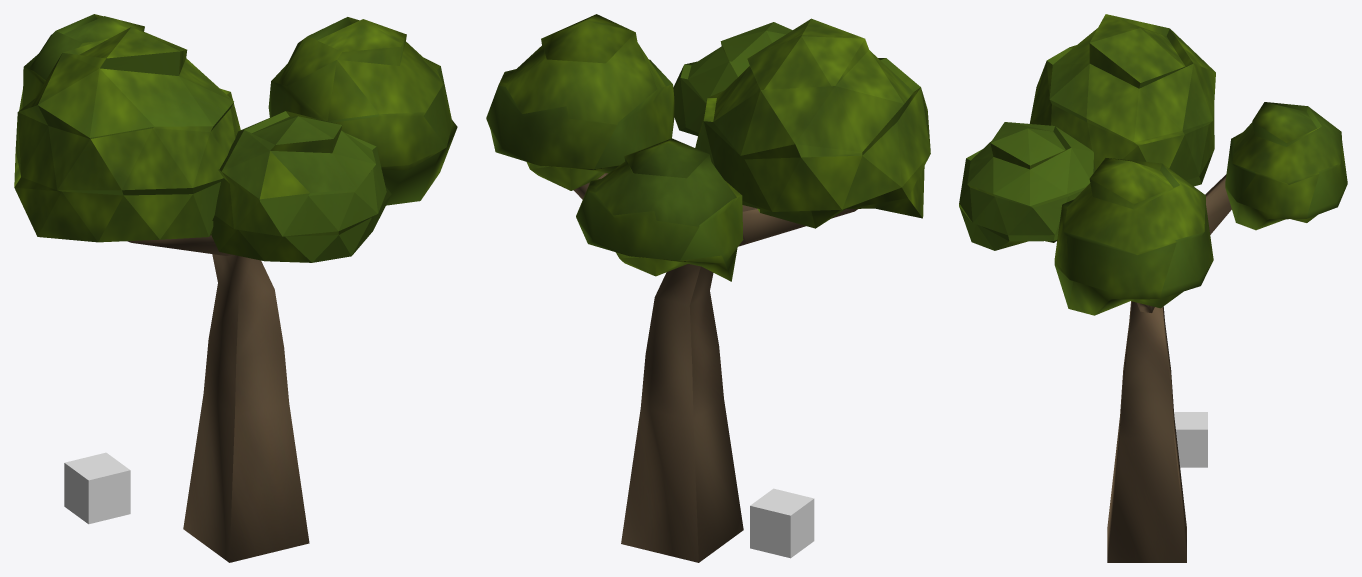
Rendered from Final Tree(where piyo pops up).fbx.
3 renders of one model, left to right at view 1: azimuth 30°, elevation 25°; view 2: azimuth 150°, elevation 25°; view 3: azimuth 270°, elevation 25°, orthographic. The views are drawn at different scales.
Parts seen in each view (by area): view 1: tree.002, Cube; view 2: tree.002, Cube; view 3: tree.002, Cube.
Part boxes in pixels (left/top/right/bottom): tree.002: left=14, top=14, right=457, bottom=562; Cube: left=64, top=452, right=130, bottom=524; tree.002: left=486, top=14, right=930, bottom=562; Cube: left=750, top=488, right=814, bottom=558; tree.002: left=959, top=14, right=1347, bottom=562; Cube: left=1174, top=412, right=1207, bottom=467.
Bounding box in the file's own units: 2029 × 2467 × 1856.
